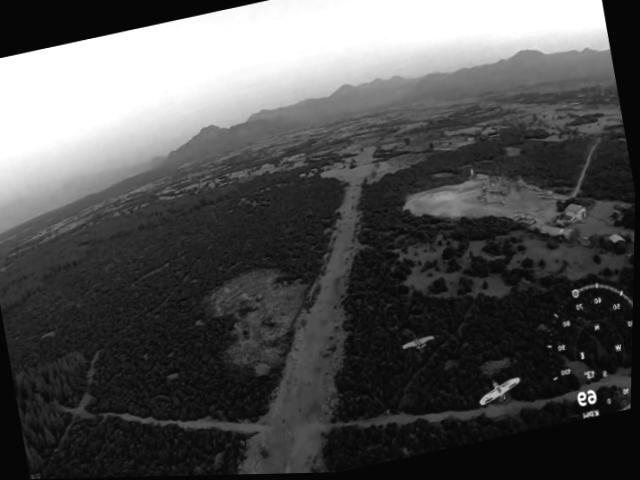hedef: (474, 365, 528, 416), (394, 329, 441, 363)
